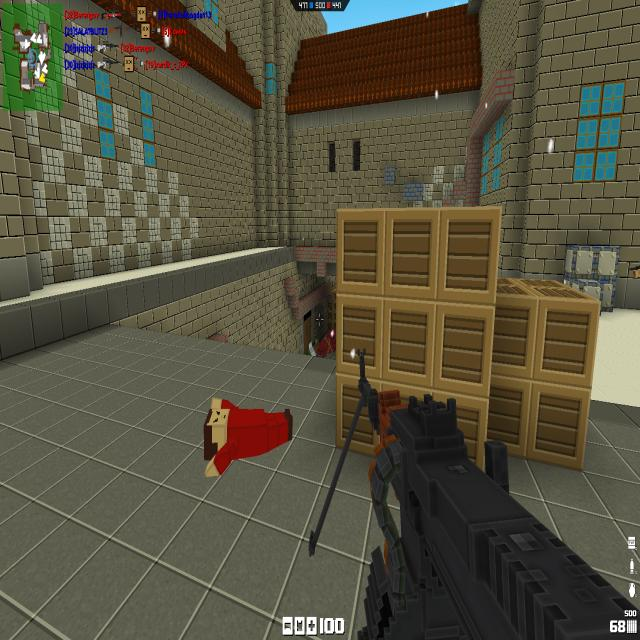player: (205, 396, 289, 476), (312, 326, 335, 358)
